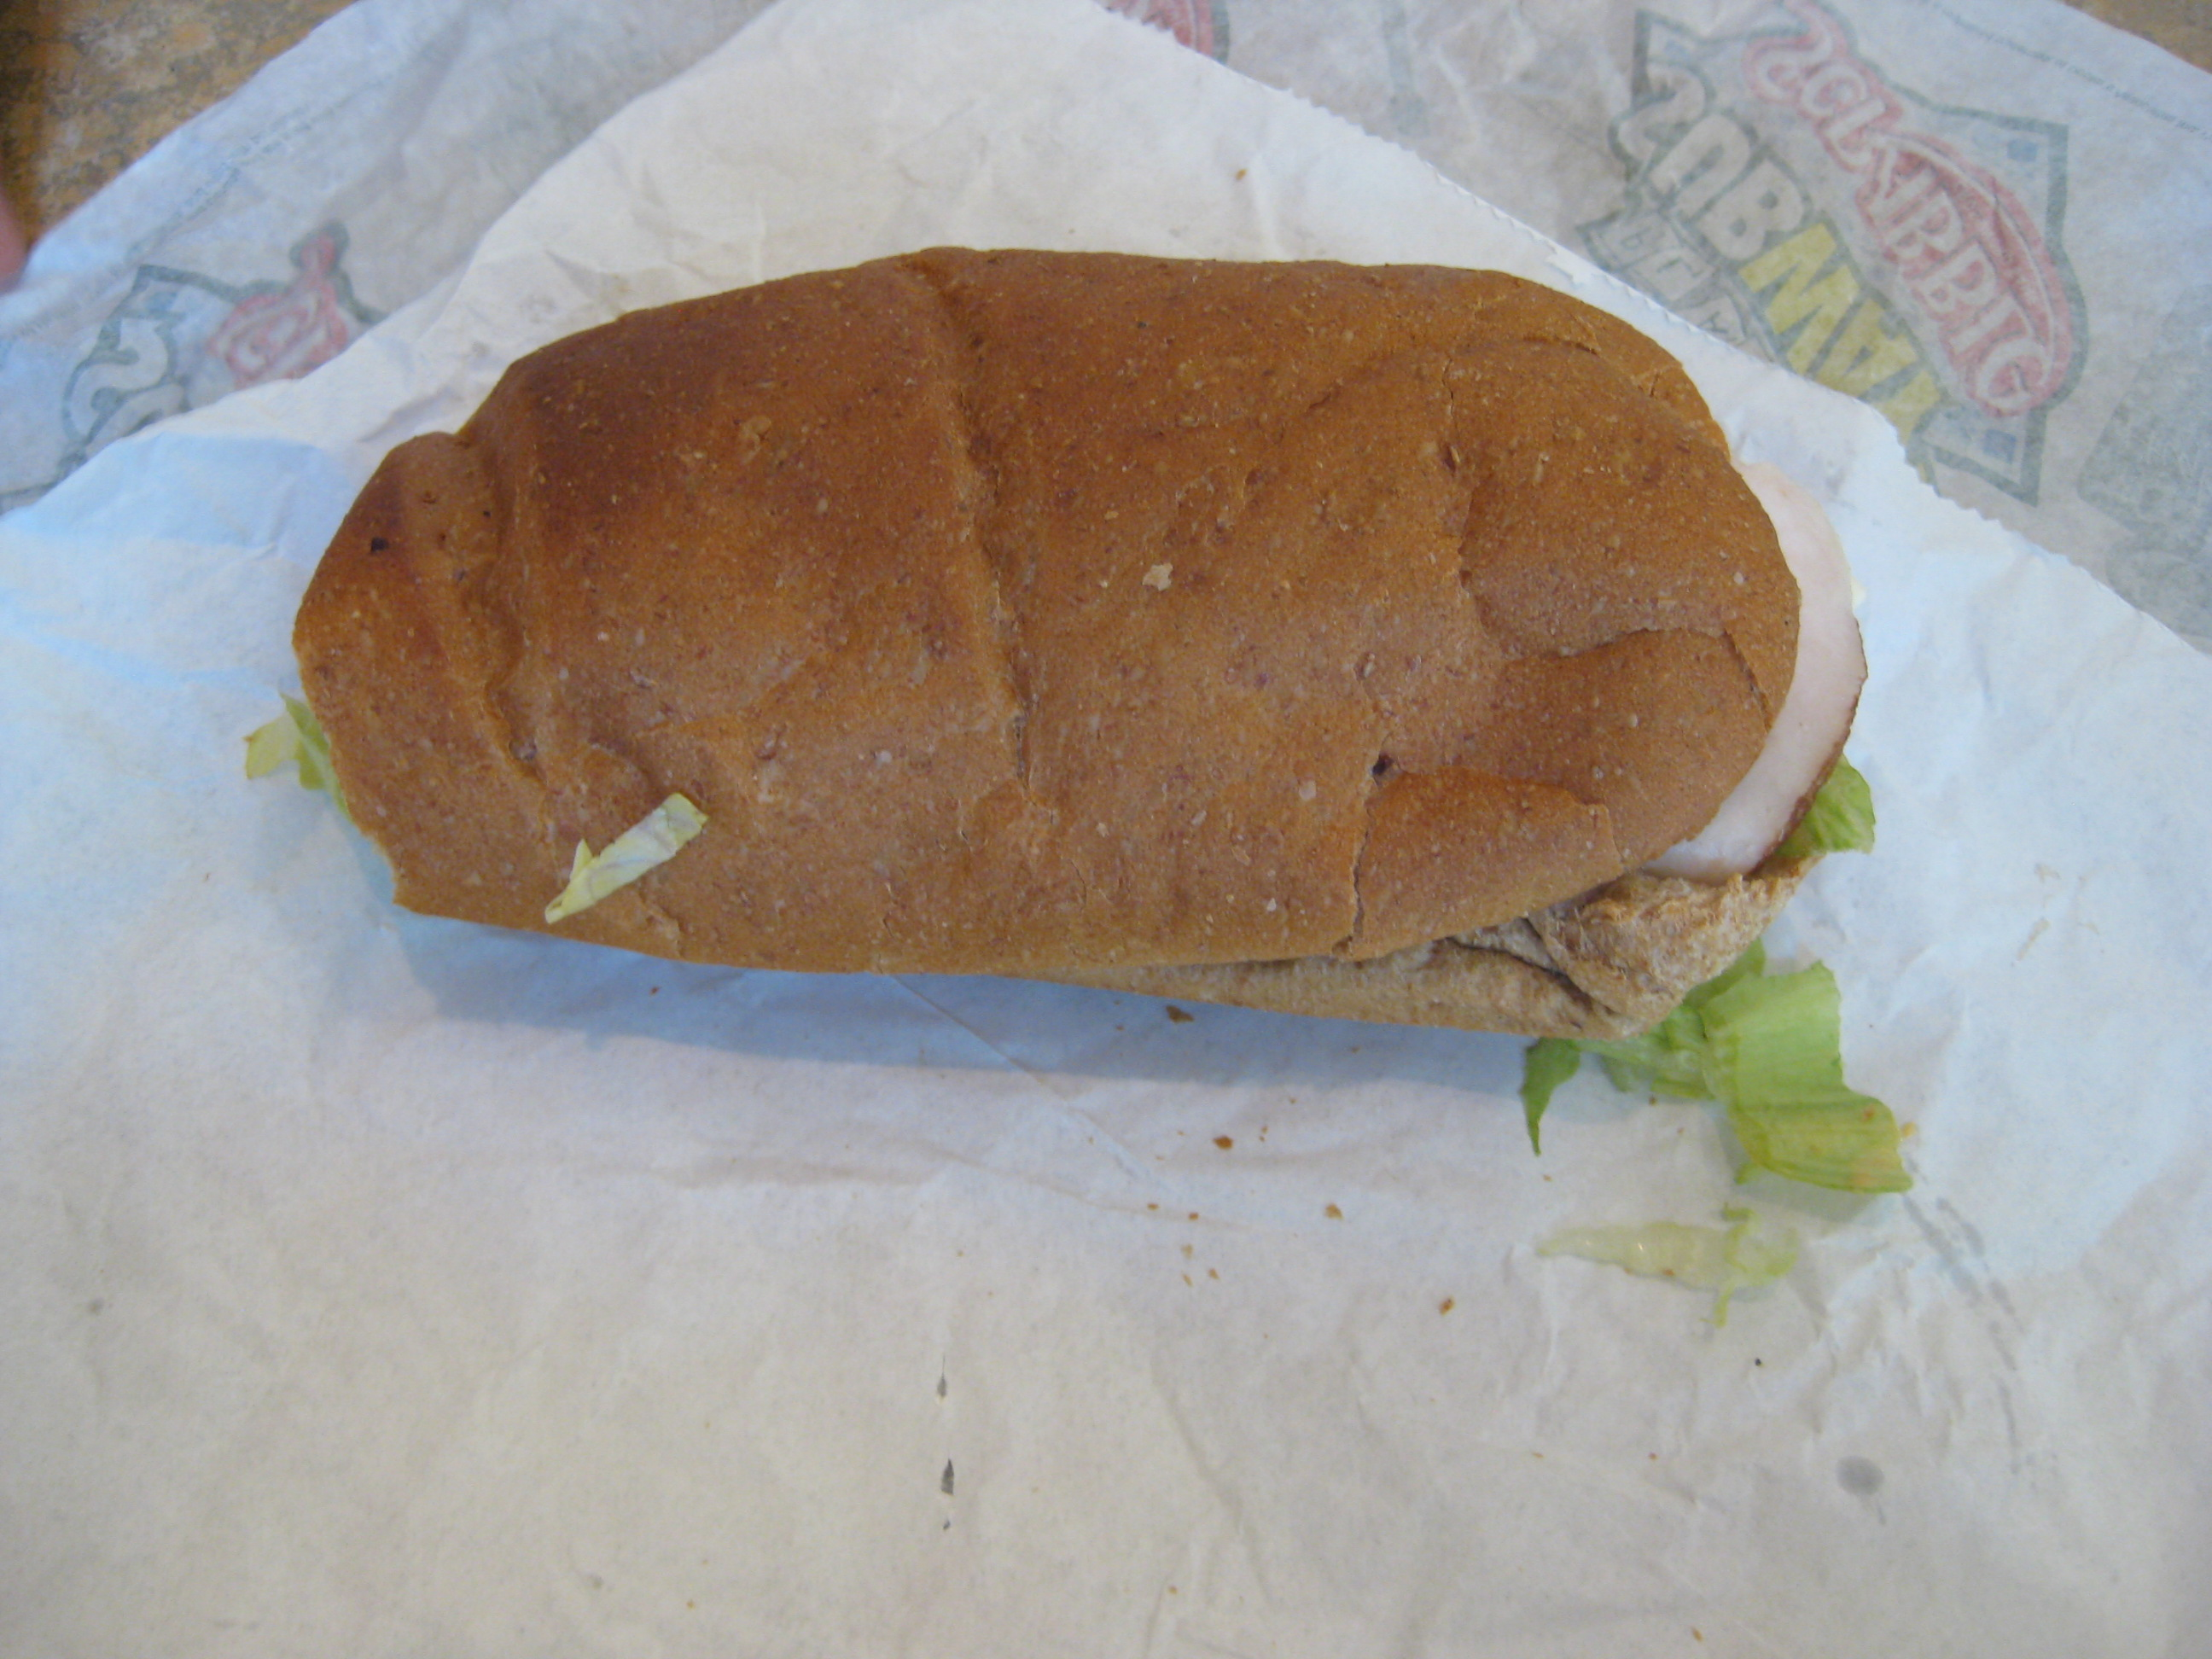sub: (300, 215, 1909, 1134)
